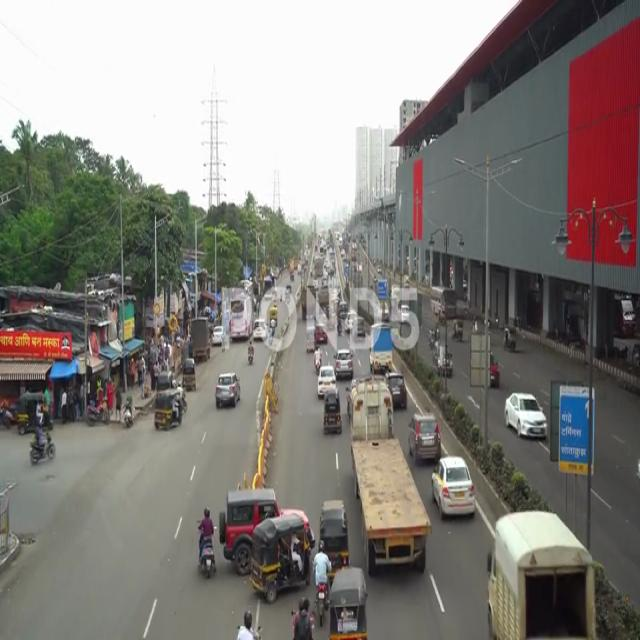car: (431, 462, 477, 520), (503, 384, 548, 442), (407, 410, 444, 463), (213, 370, 242, 410), (336, 347, 353, 379)
motorbike: (194, 504, 219, 583), (314, 542, 332, 628)
rikshaw: (253, 520, 310, 599), (329, 569, 368, 640), (323, 389, 342, 438)
truck: (347, 371, 437, 581), (485, 514, 596, 640)
